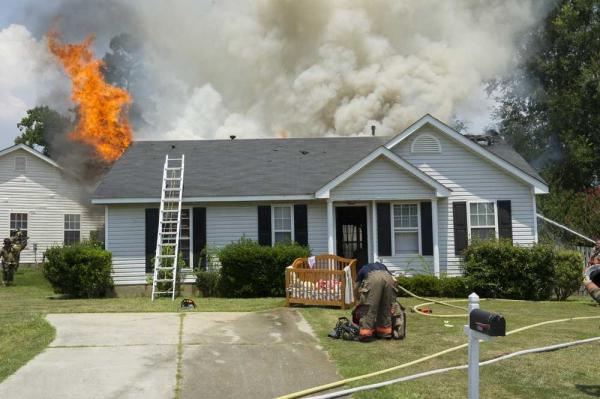fire: (46, 24, 149, 173)
